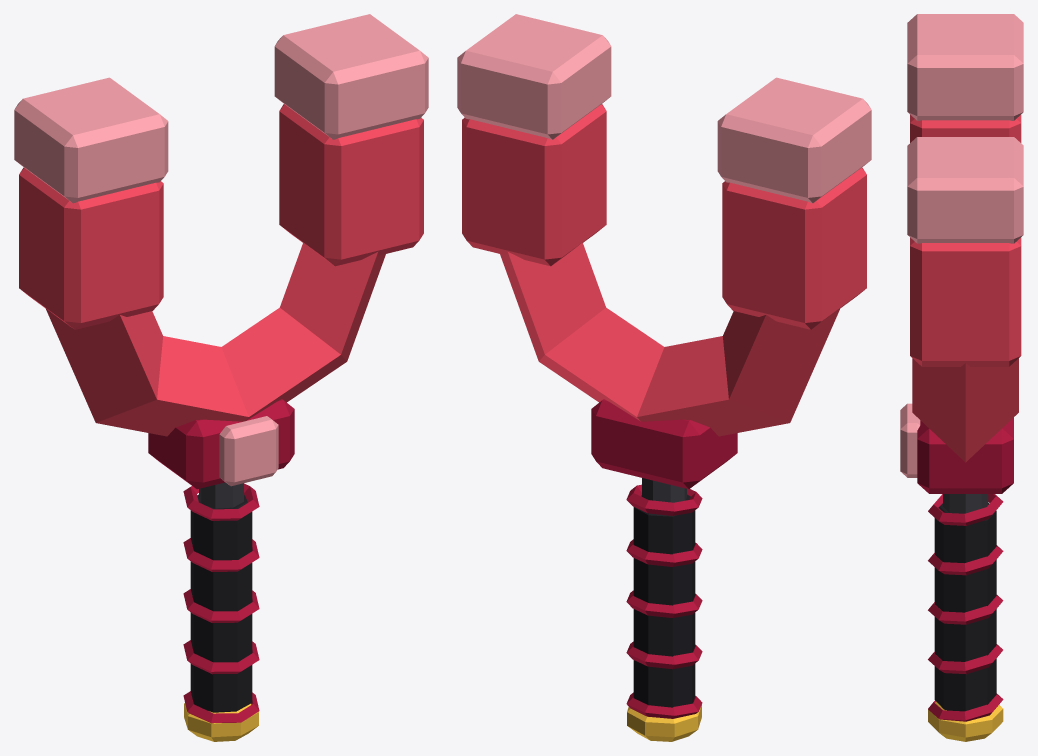
File: RubyCoinMagnet.fbx
The picture shows the model from 3 angles, left to right: view 1: azimuth 30°, elevation 25°; view 2: azimuth 150°, elevation 25°; view 3: azimuth 270°, elevation 25°; orthographic projection. The views are drawn at different scales.
Parts seen in each view (by area): view 1: RubyCoinMagnet; view 2: RubyCoinMagnet; view 3: RubyCoinMagnet.
Boxes of the visible parts, x1,y1,x2,y2 form: RubyCoinMagnet: [14, 14, 428, 741]; RubyCoinMagnet: [457, 14, 871, 741]; RubyCoinMagnet: [900, 14, 1023, 741].
Size of the model in its own units: 1.68 by 2.89 by 0.51.
Materials: 1 (1 with a texture image).
